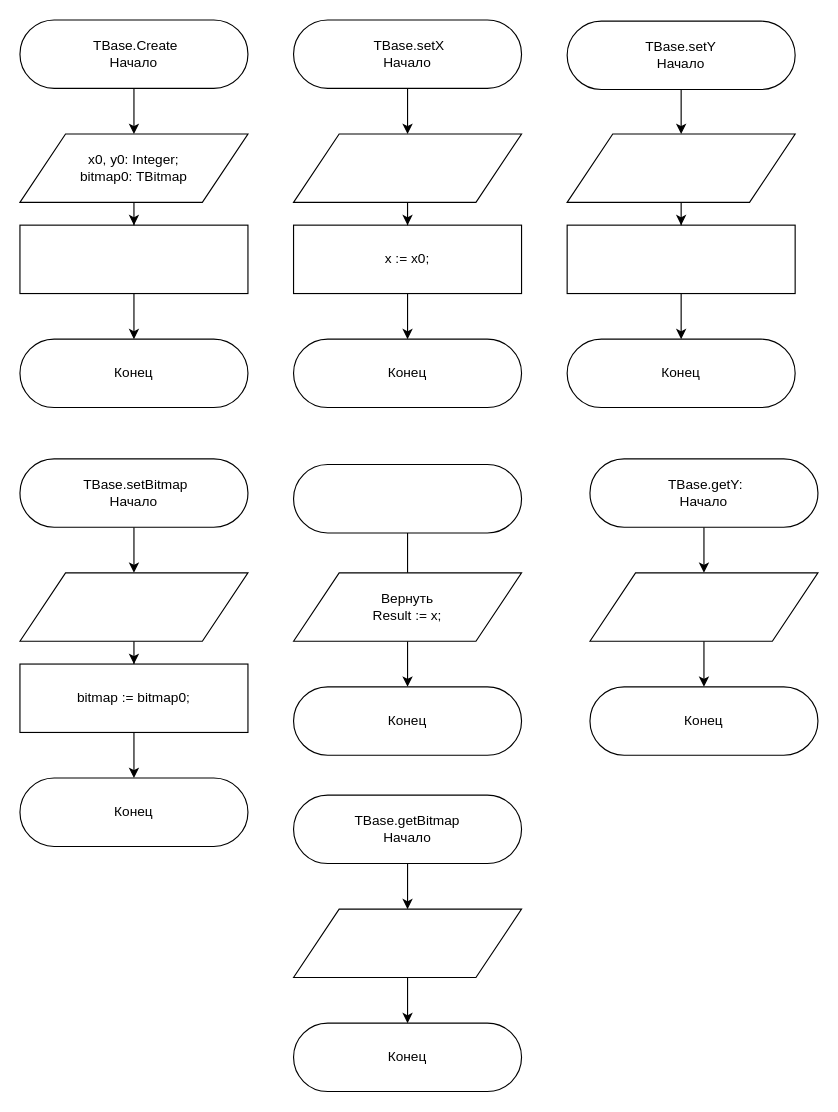
Some shapes in this 838 by 1112 pixel diagram are drawn without their labels. The shapes that lost their labels are listed below. From the top down, each one's centre as x and y in pixels, then its label:
At [407,167]: "x0: Integer".
At [680,167]: "y0: Integer".
At [133,259]: "x := x0; y := y0; bitmap := bitmap0;".
At [680,259]: "y := y0;".
At [407,498]: "TBase.getX Начало".
At [133,606]: "bitmap0: TBitmap".
At [703,606]: "Вернуть Result := y;".
At [407,943]: "Вернуть Result := bitmap;".
